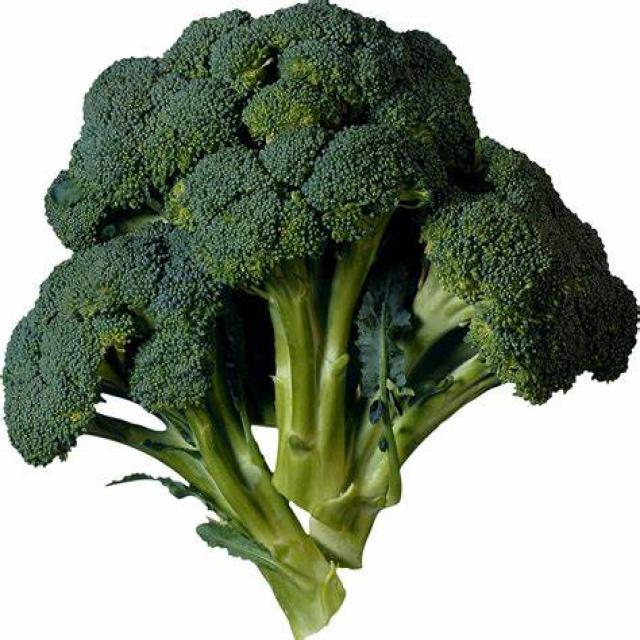Broccoli: (12, 5, 639, 631)
